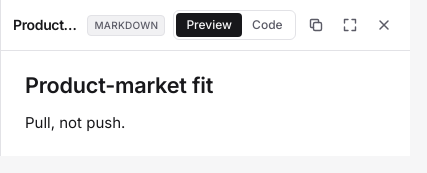
Scenario: ArtifactViewer: Preview | Code › shows Markdown source under Code
Click the tab "Code": [267, 25] box [242,13,293,37]
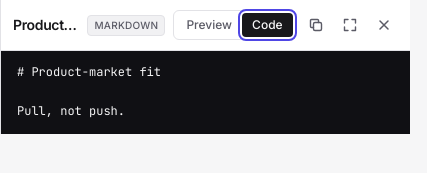
Expected: the panel shows "# Product-market fit", [17,64,161,119]
